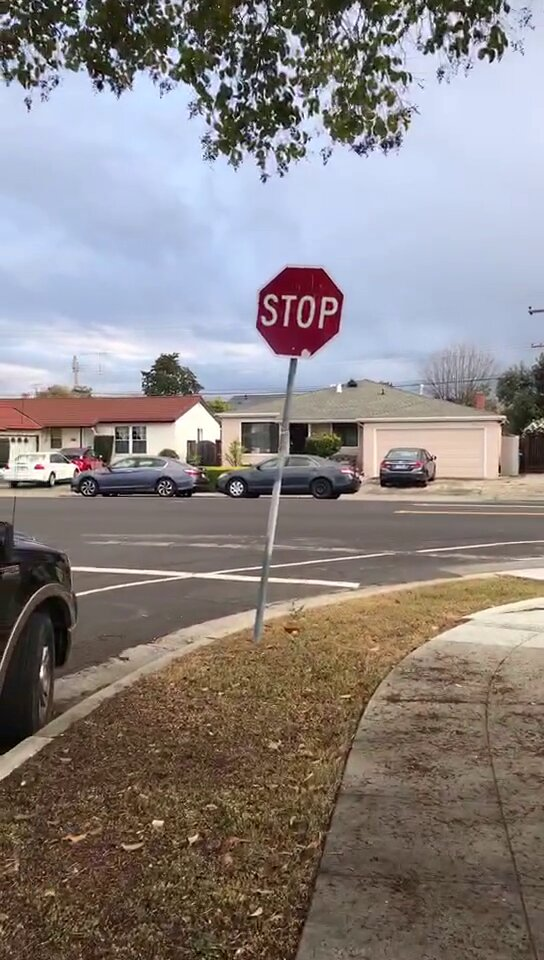stop_sign: (257, 266, 344, 358)
